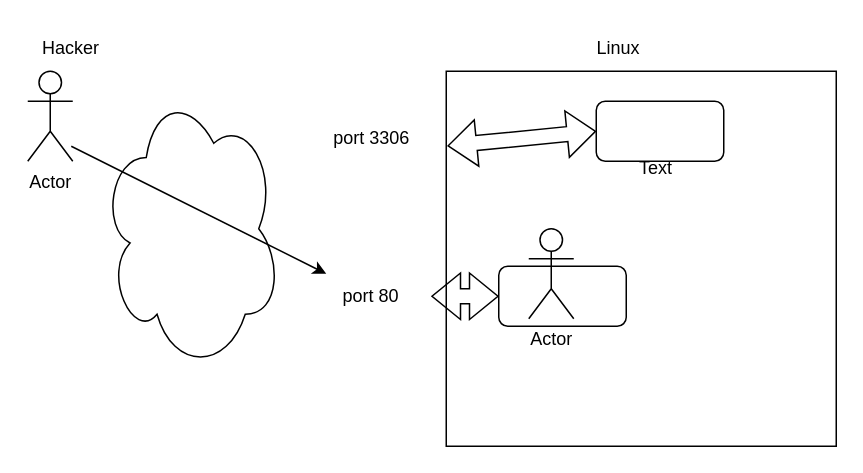
This 863x473 diagram has some shape labels left out. The box of each missing label's shape, as (x1, y1, x2, y2) in pixels:
docker container 1: (595, 100, 724, 161)
docker container 2: (497, 265, 626, 326)
